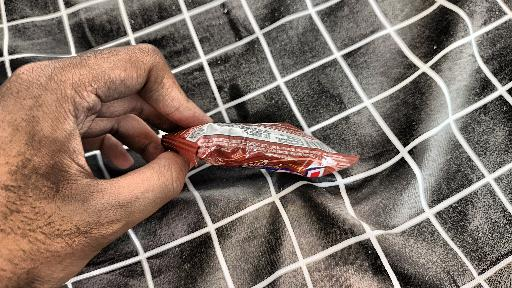top: (155, 78, 373, 209)
